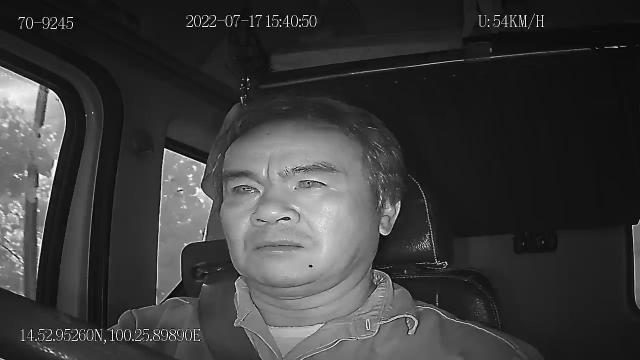SafeDriving: (285, 165, 337, 197), (223, 172, 266, 202)
Seatbelt: (196, 268, 264, 360)
